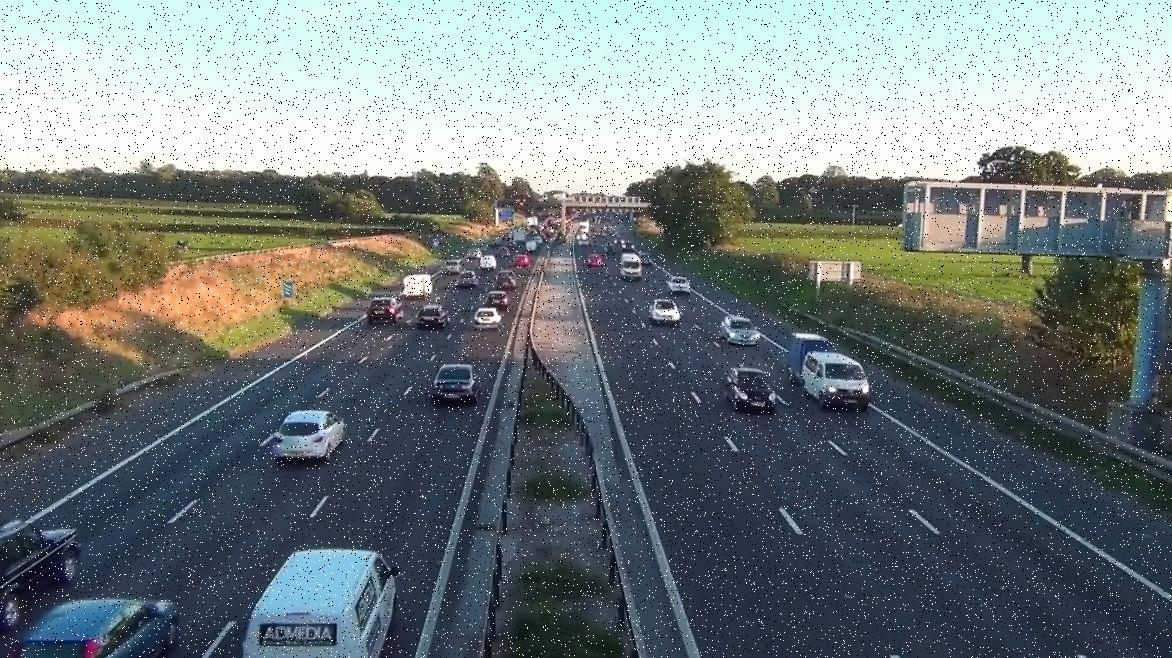car: (243, 545, 403, 658), (4, 593, 182, 658), (0, 516, 83, 629), (797, 350, 873, 407), (268, 412, 345, 457), (726, 369, 778, 414), (431, 366, 481, 407), (723, 315, 759, 347), (368, 298, 401, 323), (650, 302, 682, 327), (416, 306, 449, 330), (615, 256, 640, 281), (471, 309, 500, 329), (487, 291, 512, 311), (668, 277, 691, 293), (457, 270, 479, 286)
truck: (397, 274, 433, 299)
